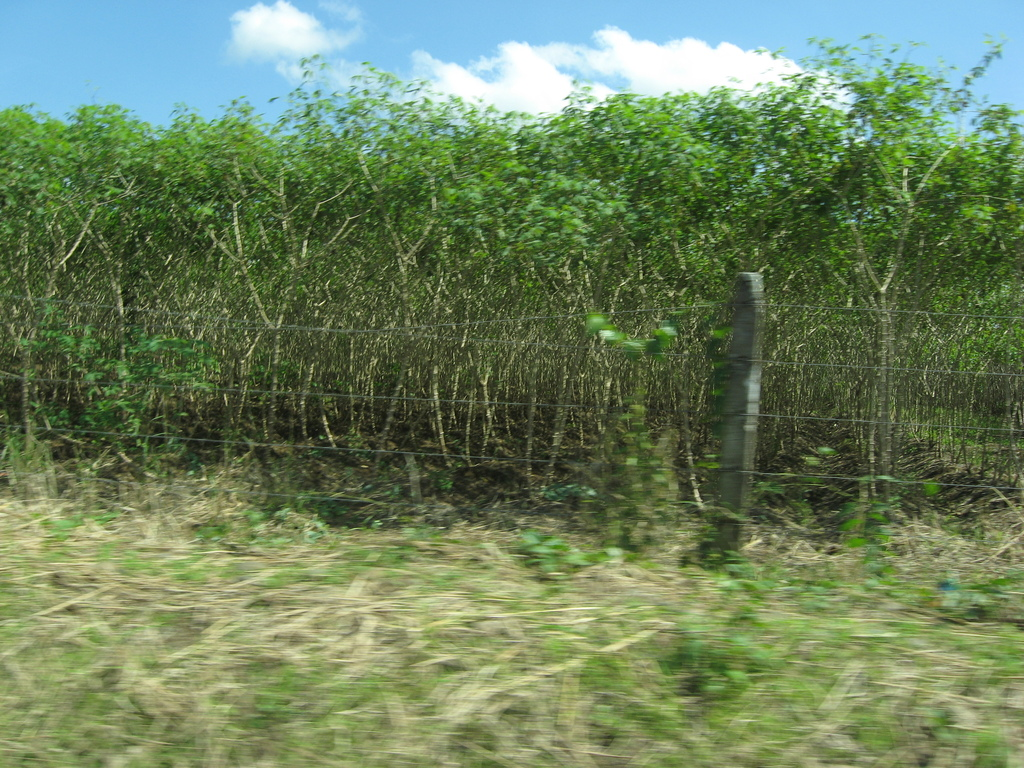Tree: (0, 48, 989, 547)
